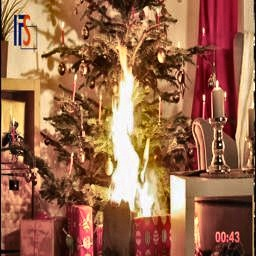fire: (95, 44, 162, 218)
